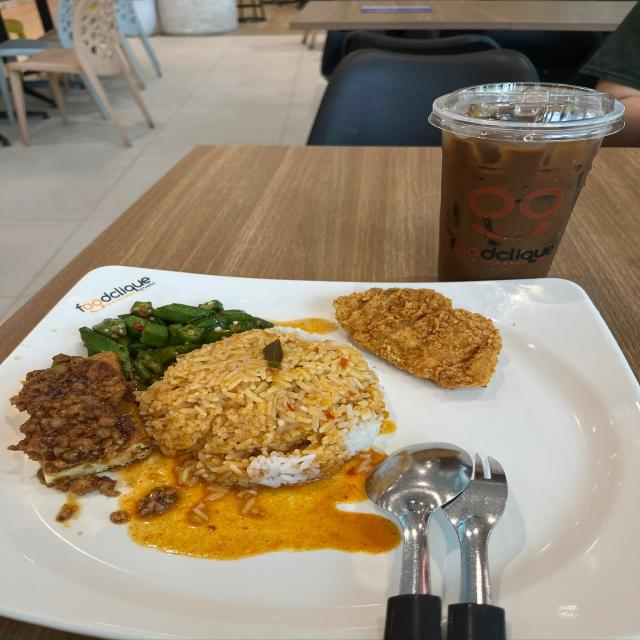Chicken: (333, 288, 502, 389)
Green veg: (80, 300, 273, 387)
Rice: (138, 327, 393, 497)
Tofu: (8, 352, 150, 477)
